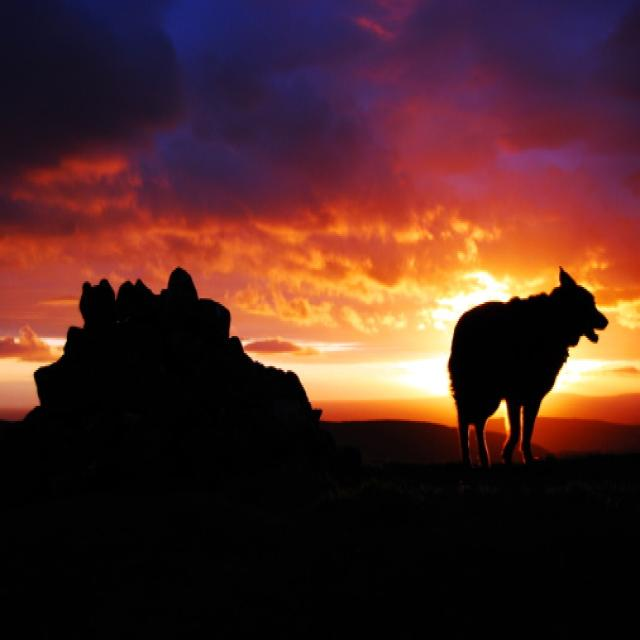Dog: (416, 264, 616, 488)
